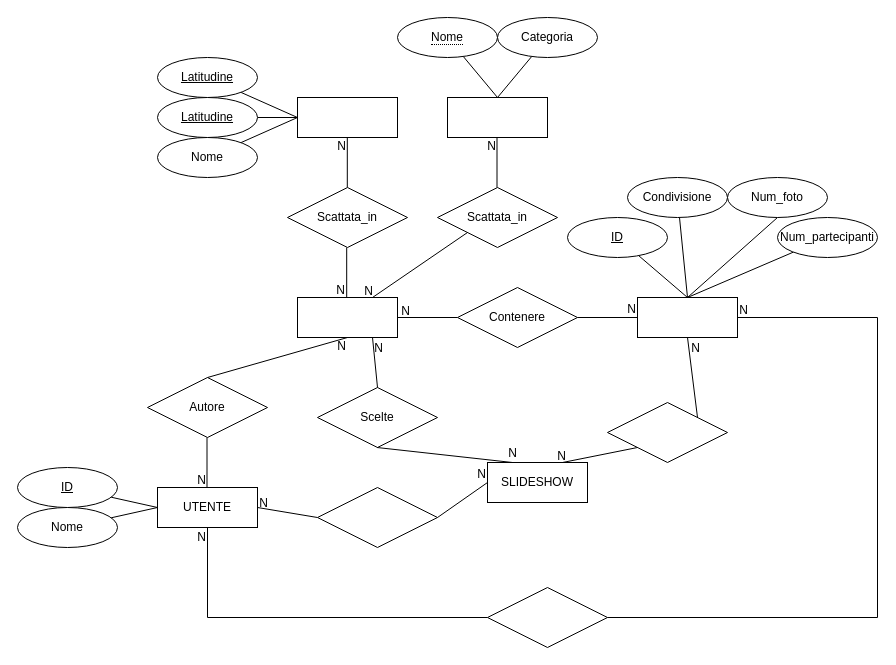
The diagram is 896 pixels wide and 665 high, and some of its shapes have lost their labels. Here are the shapes that lost their labels. From the top down, the centre of each, then its label:
At pixel 347 117: "LUOGO".
At pixel 497 117: "SOGGETTO".
At pixel 347 317: "FOTO".
At pixel 687 317: "GALLERIA".
At pixel 667 432: "Includere".
At pixel 377 517: "Creazione".
At pixel 547 617: "Partecipazione".
